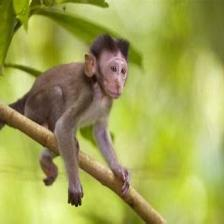monkey: (26, 39, 140, 201)
